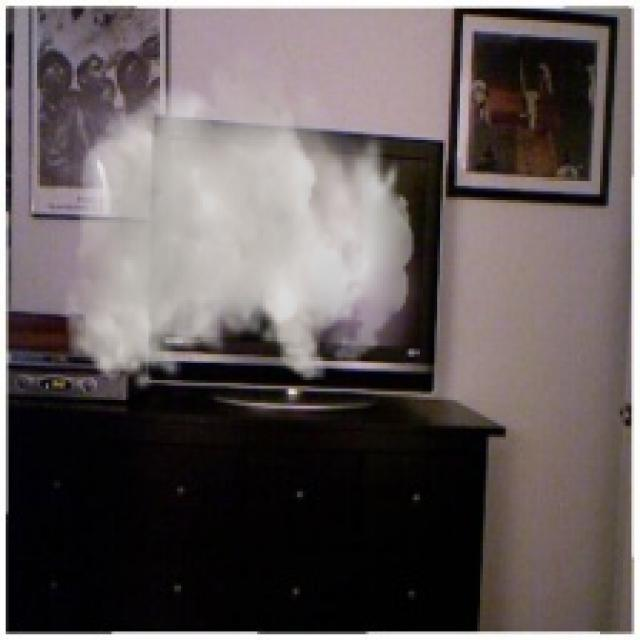Smoke: (62, 39, 414, 392)
